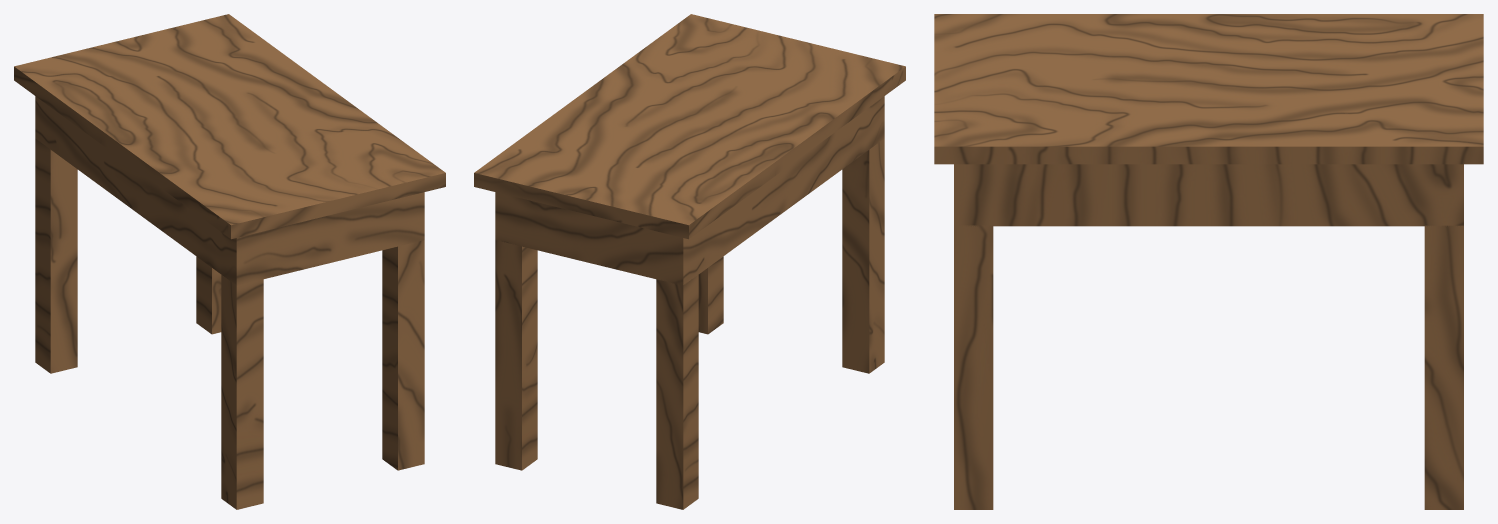
File: mesa.obj
The picture shows the model from 3 angles, left to right: view 1: azimuth 30°, elevation 25°; view 2: azimuth 150°, elevation 25°; view 3: azimuth 270°, elevation 25°; orthographic projection. The views are drawn at different scales.
Parts seen in each view (by area): view 1: pCube9; view 2: pCube9; view 3: pCube9.
Part boxes in pixels (left/top/right/bottom): pCube9: left=14, top=14, right=445, bottom=509; pCube9: left=474, top=14, right=905, bottom=509; pCube9: left=934, top=14, right=1483, bottom=509.
Bounding box in the file's own units: 4 × 5.23 × 7.
1 material, 1 textured.
